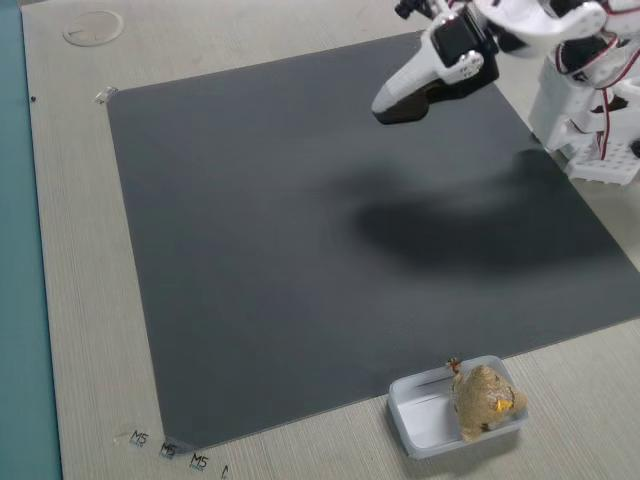objects: (364, 30, 516, 121)
